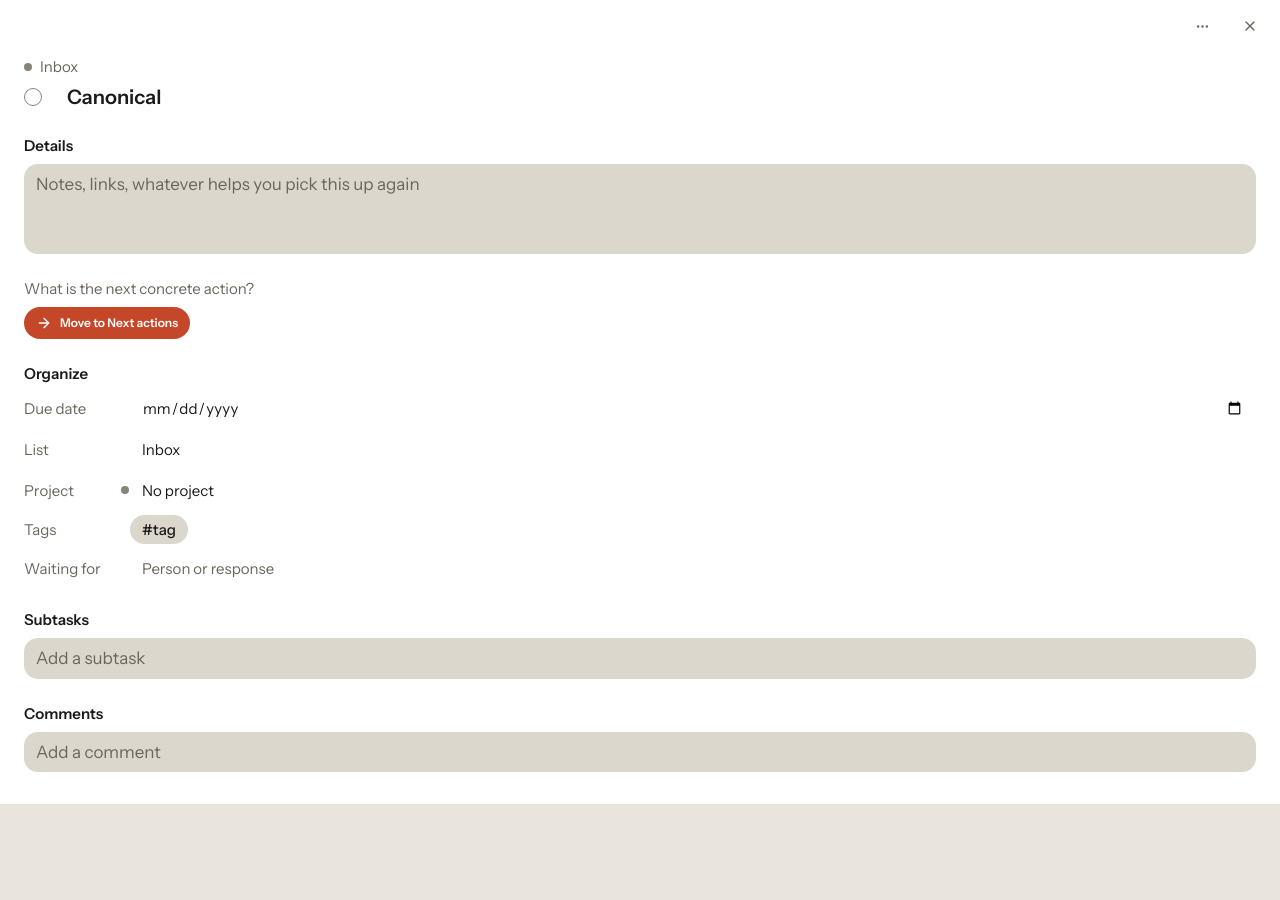
Scenario: task detail autosave contract UI › saves the current draft before moving an Inbox task to Next actions
Clear the text box named "Title" at (658, 98), box [59, 81, 1256, 114]
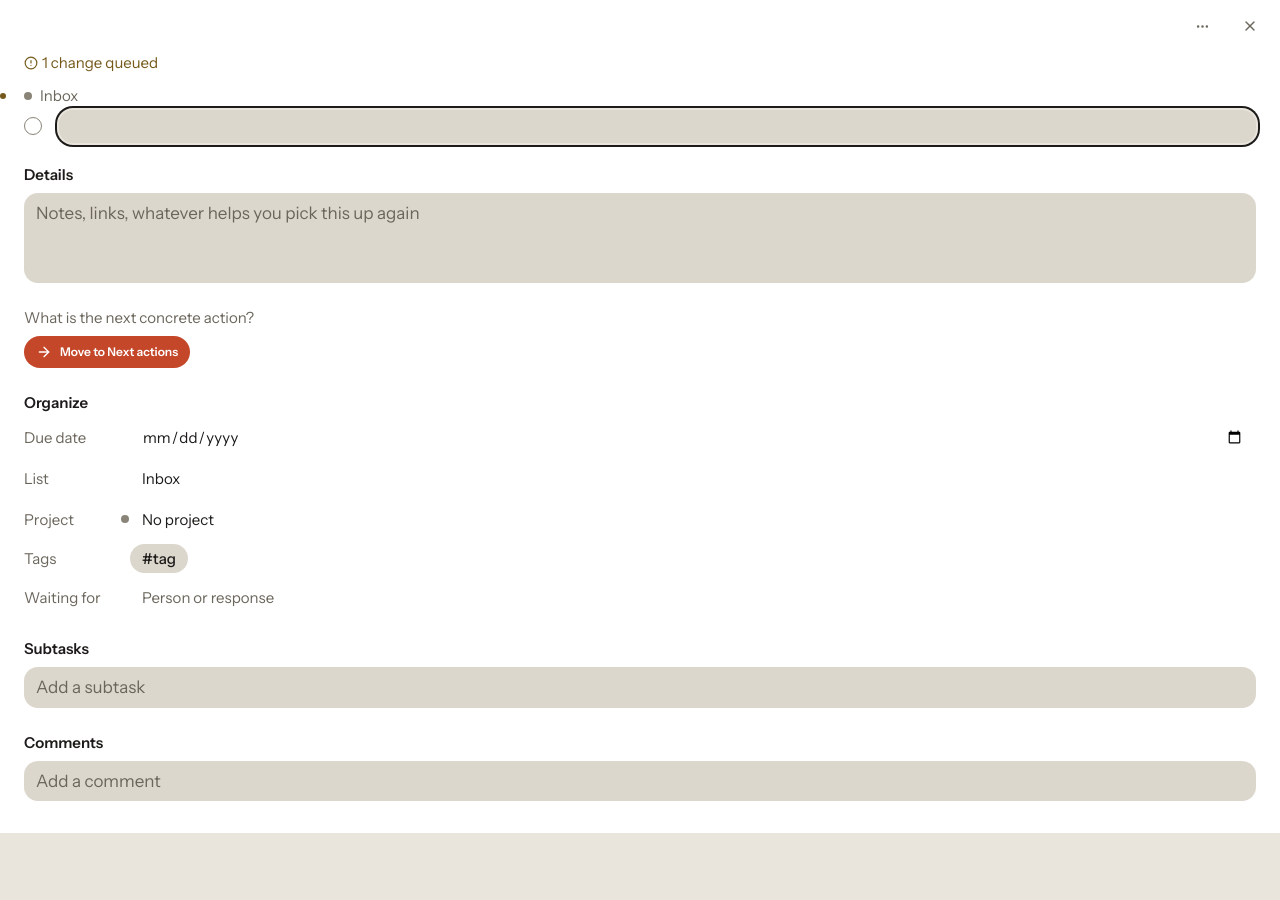
Type "Send the proposal" into the text box named "Title".
click(658, 126); type("Send the proposal")  # box [59, 110, 1256, 143]
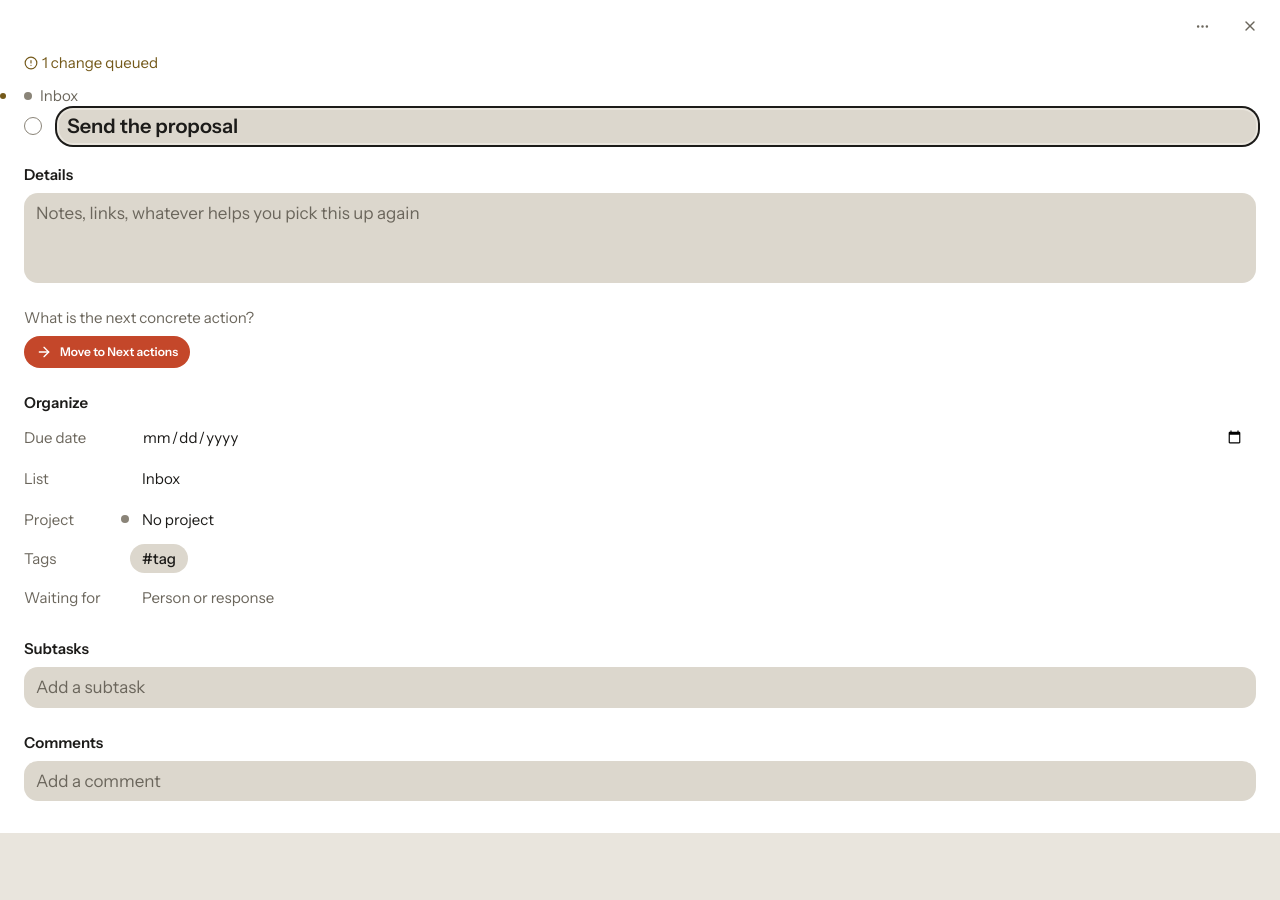
Click the button "Move to Next actions".
click(107, 352)  # box [24, 336, 190, 368]
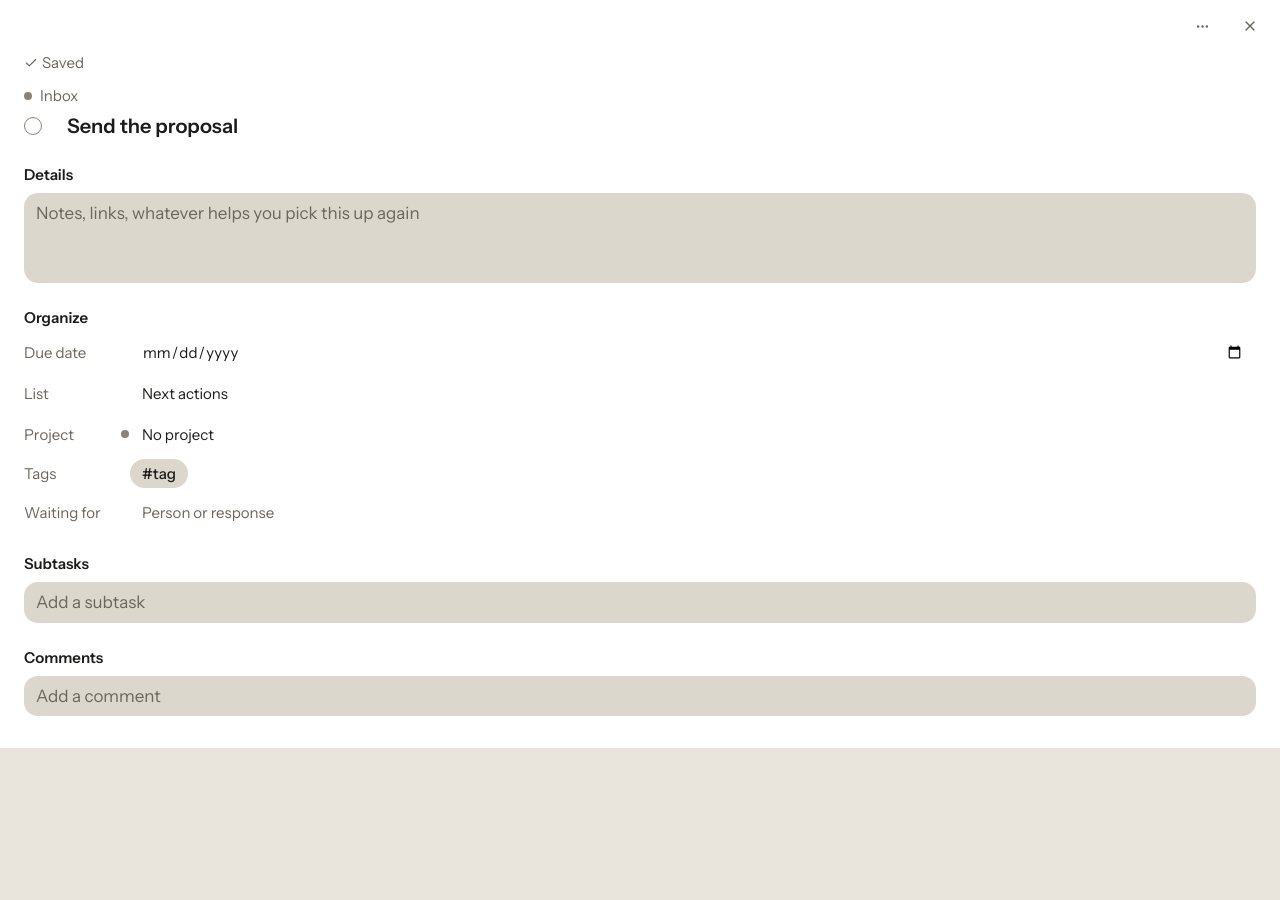
Check: the dropdown named "List" shows "Next actions", box [130, 377, 1256, 410]
Check: the button "Move to Next actions" is gone
